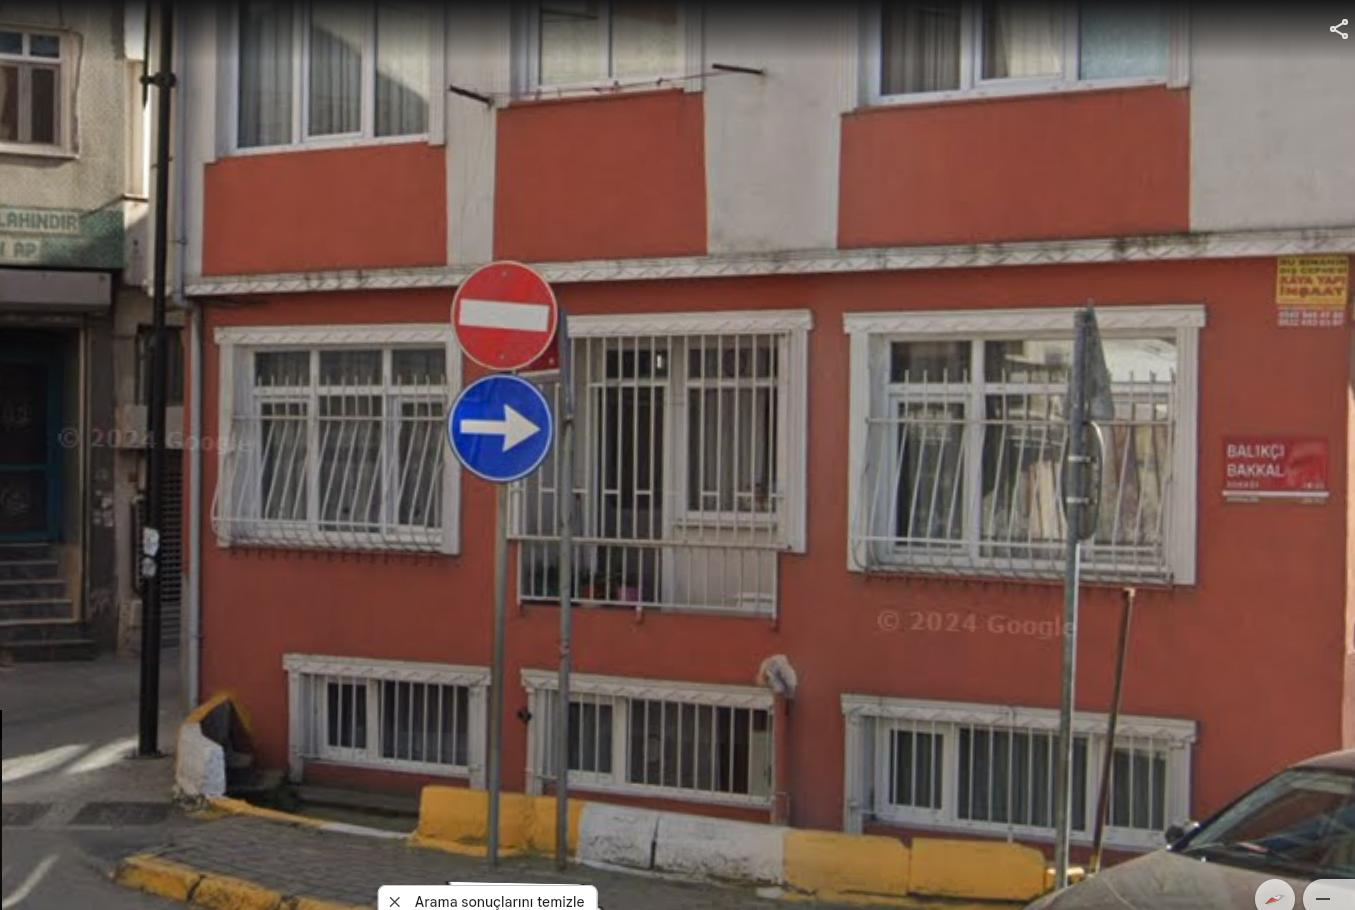turnleft: (454, 378, 547, 474)
